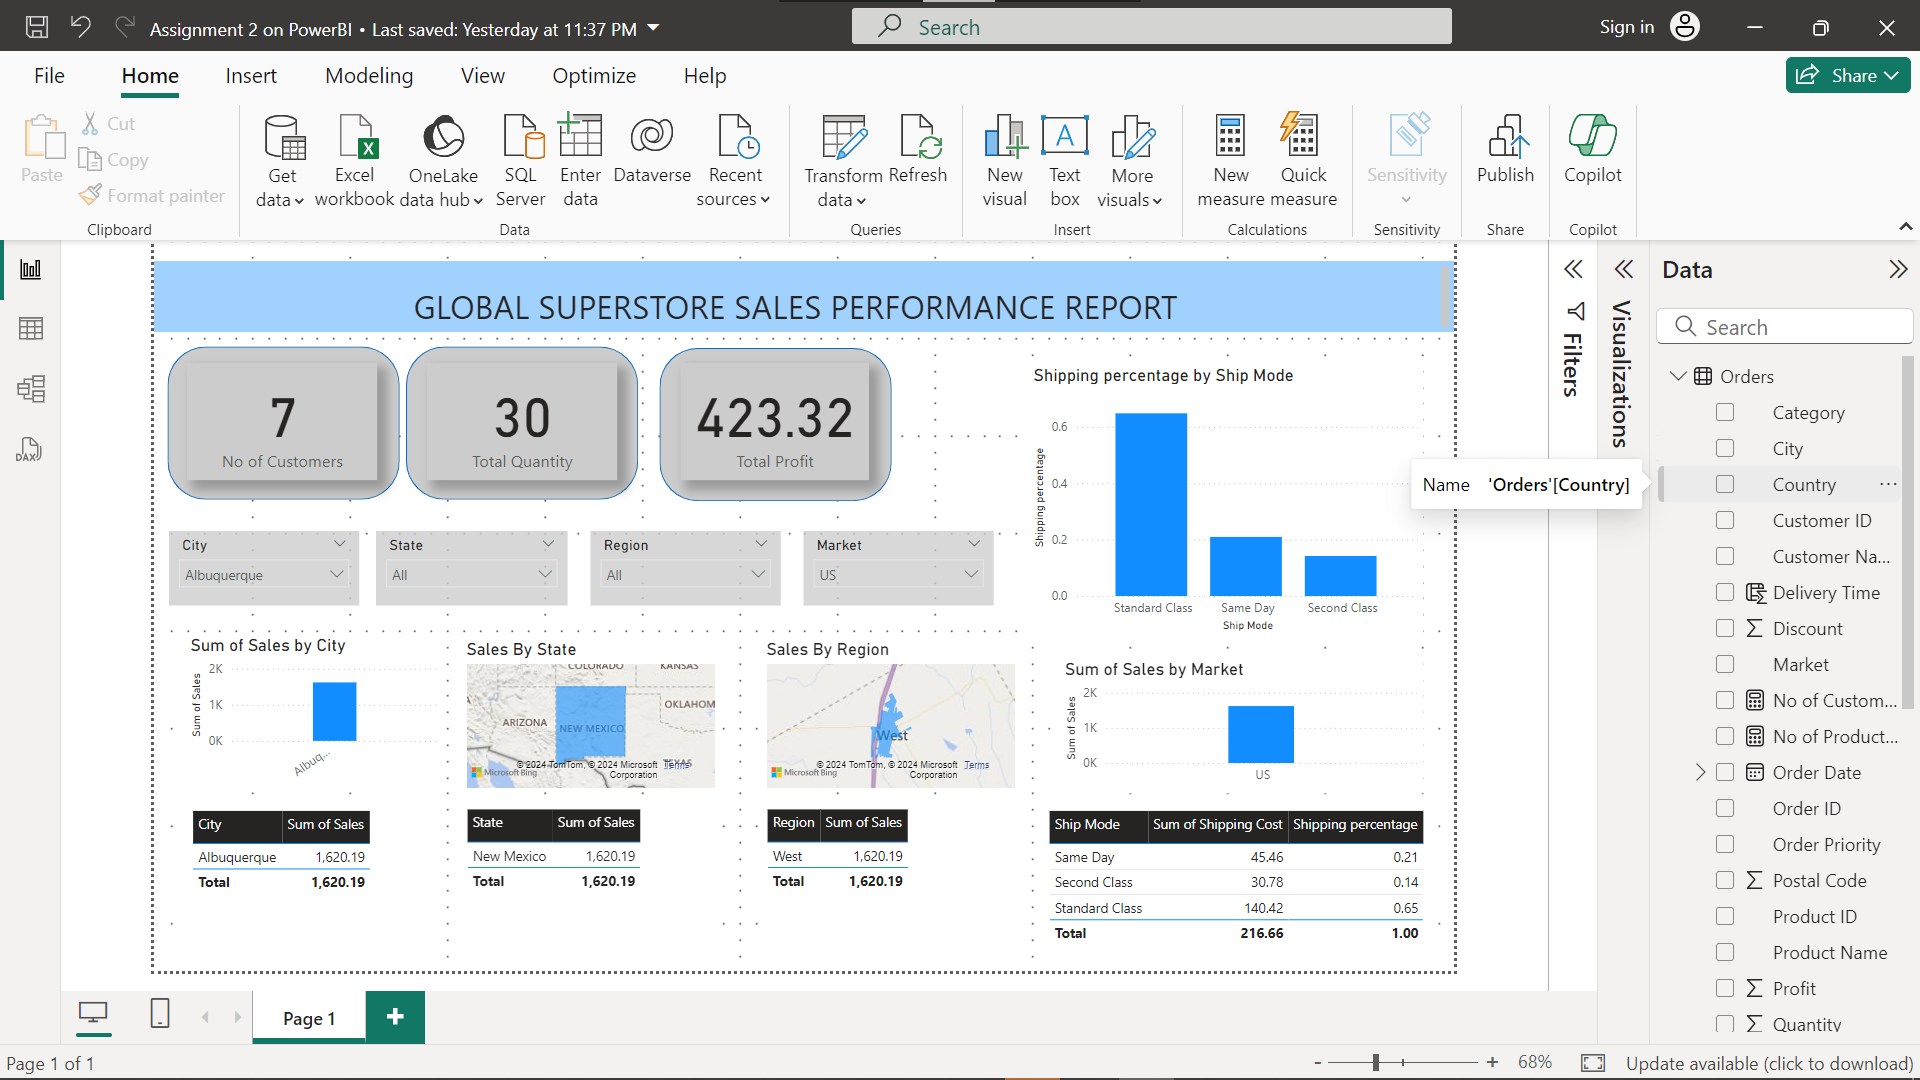

The page's visual inventory and layout, read from the dashboard file:
{"tool":"powerbi","page":{"name":"Page 1","canvas":[1280,720],"ordinal":0},"visuals":[{"type":"textbox","box":[0,21.3,1280,70.1],"z":0},{"type":"shape","box":[13.7,105.1,228.6,150.9],"z":1000},{"type":"card","fields":{"Values":["Orders.No of Customers"]},"box":[32,121.6,187.2,115.2],"z":2000},{"type":"shape","box":[248.4,105.1,228.6,150.9],"z":3000},{"type":"shape","box":[498.3,106.7,228.6,150.9],"z":4000},{"type":"card","fields":{"Values":["Orders.Total Quantity"]},"box":[268.8,121.6,187.2,115.2],"z":5000},{"type":"card","fields":{"Values":["Orders.Total Profit"]},"box":[518.4,121.6,185.6,115.2],"z":6000},{"type":"columnChart","fields":{"Y":["Orders.Shipping percentage"],"Category":["Orders.Ship Mode"]},"box":[861,121.9,388.6,266.7],"z":7000},{"type":"slicer","fields":{"Values":["Orders.City"]},"box":[14.4,286.4,187.2,73.6],"z":8000},{"type":"slicer","fields":{"Values":["Orders.State"]},"box":[219.2,286.4,188.8,73.6],"z":9000},{"type":"slicer","fields":{"Values":["Orders.Region"]},"box":[430.4,286.4,187.2,73.6],"z":10000},{"type":"slicer","fields":{"Values":["Orders.Market"]},"box":[640,286.4,187.2,73.6],"z":11000},{"type":"columnChart","fields":{"Category":["Orders.City"],"Y":["Sum(Orders.Sales)"]},"box":[30.5,388.6,254.5,155.4],"z":13000},{"type":"tableEx","fields":{"Values":["Orders.City","Sum(Orders.Sales)"]},"box":[32,556.2,253,164.6],"z":13500},{"type":"filledMap","title":"Sales By State","fields":{"Category":["Orders.State"]},"box":[303.2,393.1,254.5,150.9],"z":14000},{"type":"filledMap","title":"Sales By Region","fields":{"Category":["Orders.Region"]},"box":[598.9,393.1,254.5,150.9],"z":15000},{"type":"columnChart","fields":{"Category":["Orders.Market"],"Y":["Sum(Orders.Sales)"]},"box":[891.4,411.4,358.1,132.6],"z":16000},{"type":"tableEx","fields":{"Values":["Orders.State","Sum(Orders.Sales)"]},"box":[303,556,254,164],"z":18000},{"type":"tableEx","fields":{"Values":["Orders.Region","Sum(Orders.Sales)"]},"box":[598,556,256,164],"z":19000},{"type":"tableEx","fields":{"Values":["Orders.Ship Mode","Sum(Orders.Shipping Cost)","Orders.Shipping percentage"]},"box":[876.2,556.2,388.6,164.6],"z":20000}]}

Visuals, with their boxes on the page's 1280x720 design canvas (x1, y1, x2, y2). These are canvas units, not pixel positions in the 1920x1080 screenshot, which may show the page scaled, cropped or inside an application window:
textbox: Rect(0, 21, 1280, 91)
shape: Rect(14, 105, 242, 256)
card - Orders.No of Customers: Rect(32, 122, 219, 237)
shape: Rect(248, 105, 477, 256)
shape: Rect(498, 107, 727, 258)
card - Orders.Total Quantity: Rect(269, 122, 456, 237)
card - Orders.Total Profit: Rect(518, 122, 704, 237)
columnChart - Orders.Shipping percentage x Orders.Ship Mode: Rect(861, 122, 1250, 389)
slicer - Orders.City: Rect(14, 286, 202, 360)
slicer - Orders.State: Rect(219, 286, 408, 360)
slicer - Orders.Region: Rect(430, 286, 618, 360)
slicer - Orders.Market: Rect(640, 286, 827, 360)
columnChart - Orders.City x Sum(Orders.Sales): Rect(30, 389, 285, 544)
tableEx - Orders.City x Sum(Orders.Sales): Rect(32, 556, 285, 721)
"Sales By State" filledMap: Rect(303, 393, 558, 544)
"Sales By Region" filledMap: Rect(599, 393, 853, 544)
columnChart - Orders.Market x Sum(Orders.Sales): Rect(891, 411, 1250, 544)
tableEx - Orders.State x Sum(Orders.Sales): Rect(303, 556, 557, 720)
tableEx - Orders.Region x Sum(Orders.Sales): Rect(598, 556, 854, 720)
tableEx - Orders.Ship Mode x Sum(Orders.Shipping Cost): Rect(876, 556, 1265, 721)
